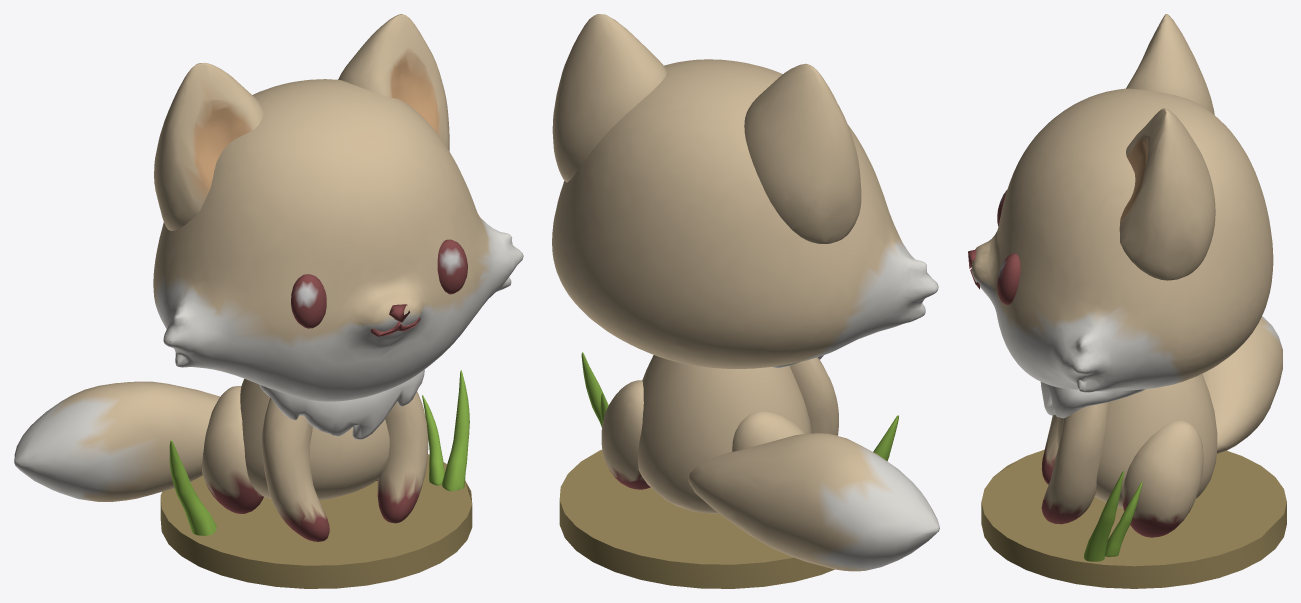
File: cute-fox.glb
3 views of the same model, side by side, from view 1: azimuth 30°, elevation 25°; view 2: azimuth 150°, elevation 25°; view 3: azimuth 270°, elevation 25° (orthographic). The views are drawn at different scales.
Visible parts, largest first — view 1: Object_3, Object_25; view 2: Object_3, Object_25; view 3: Object_3, Object_25.
Part boxes in pixels (bbox=[...]): Object_3: bbox=[14, 14, 523, 541]; Object_25: bbox=[160, 454, 472, 588]; Object_3: bbox=[552, 14, 939, 571]; Object_25: bbox=[559, 449, 834, 588]; Object_3: bbox=[968, 14, 1282, 561]; Object_25: bbox=[981, 449, 1286, 588].
Size of the model in its own units: 3.53 by 3.67 by 2.3.
